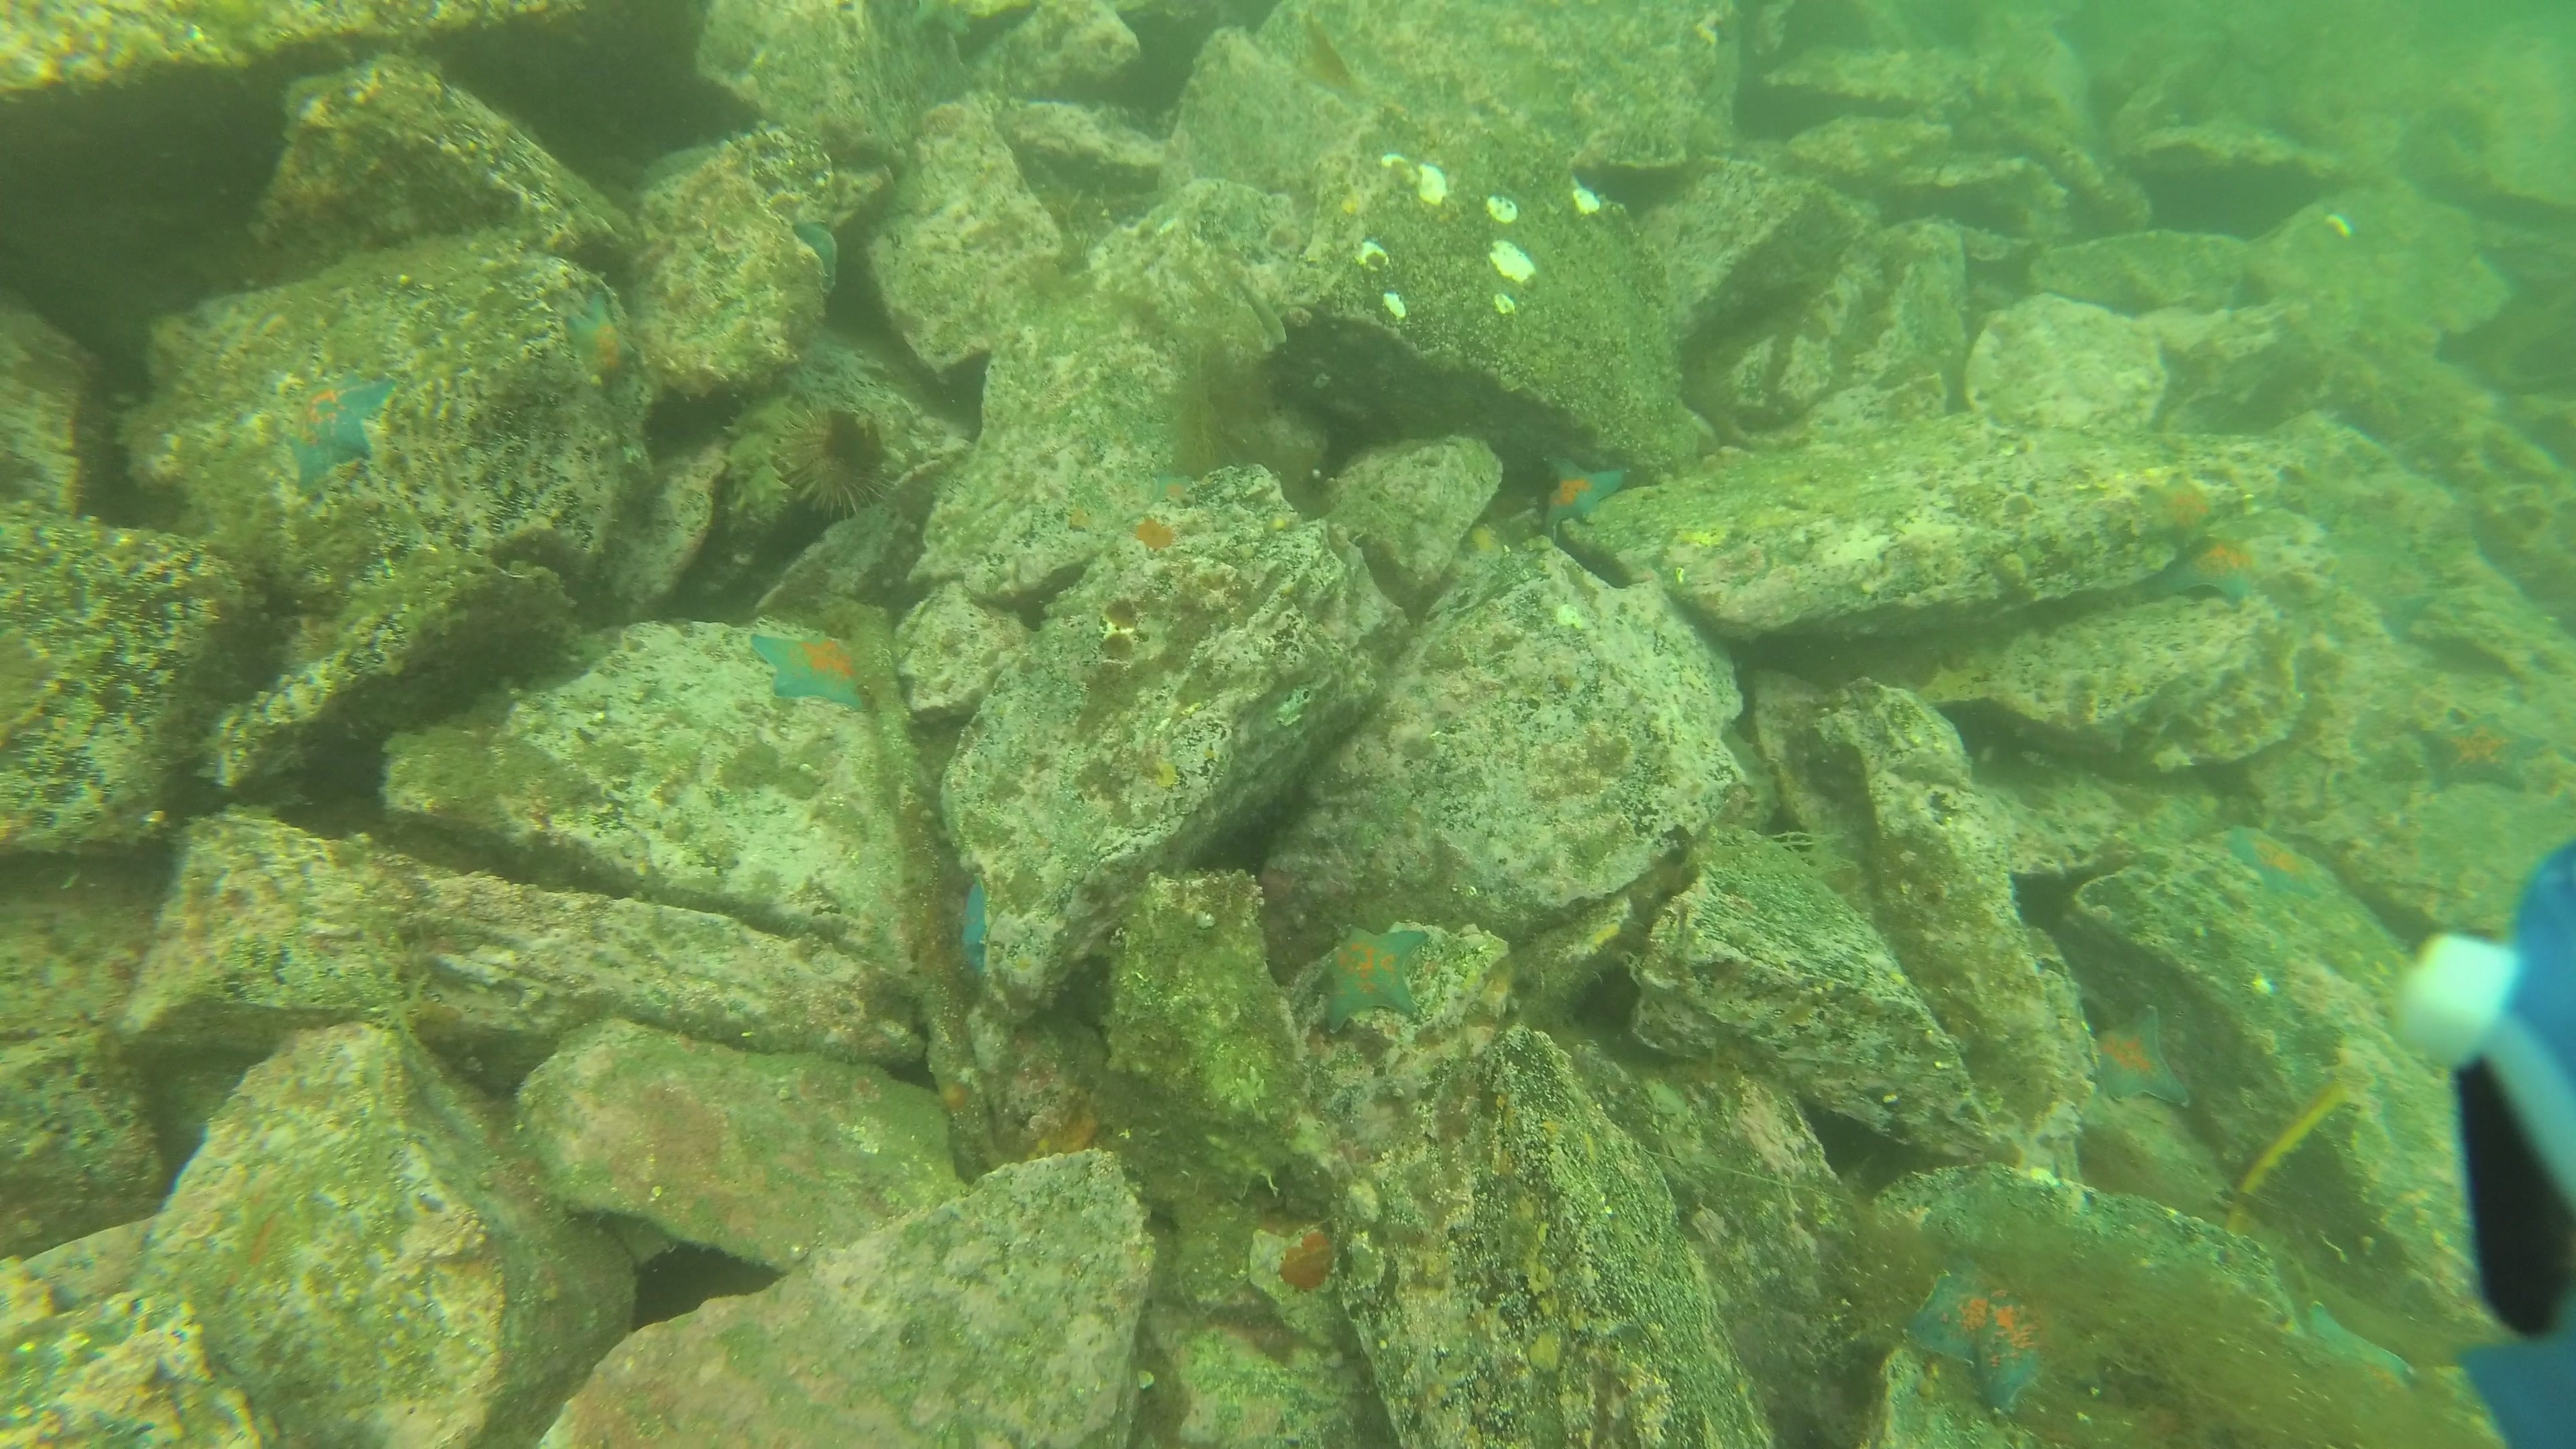echinus: (770, 384, 897, 527)
starfish: (1897, 1254, 2056, 1419), (1313, 916, 1437, 1033), (280, 373, 400, 490), (2404, 706, 2557, 798), (743, 617, 874, 713), (2091, 998, 2196, 1115), (2219, 819, 2337, 908), (1534, 446, 1637, 540), (561, 280, 642, 389), (2167, 529, 2275, 610), (2134, 472, 2231, 540), (787, 211, 846, 301), (952, 876, 996, 982), (1152, 464, 1196, 508)
